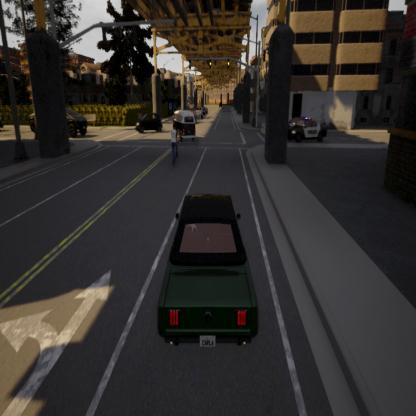Cars: (152, 174, 260, 364), (21, 100, 90, 142), (282, 109, 332, 153), (172, 102, 201, 151), (134, 104, 164, 141), (168, 122, 181, 164)
